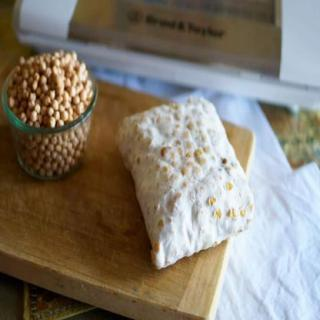Tempe: (114, 95, 260, 273)
